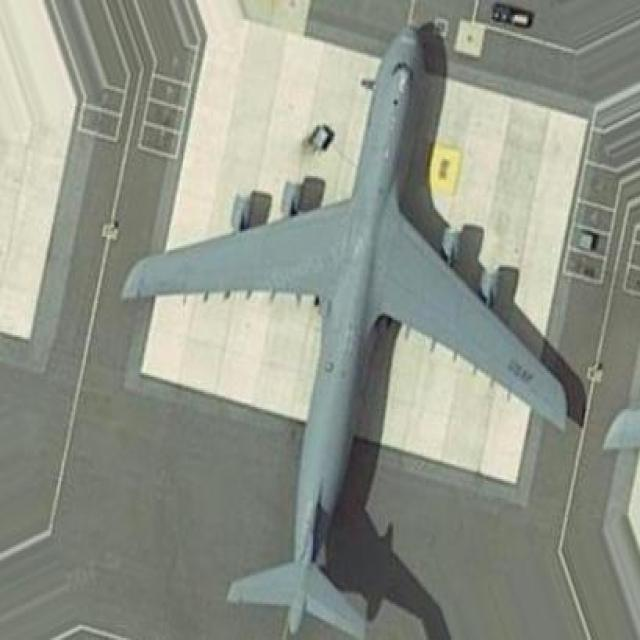C-5_TopDown: (119, 19, 587, 638)
